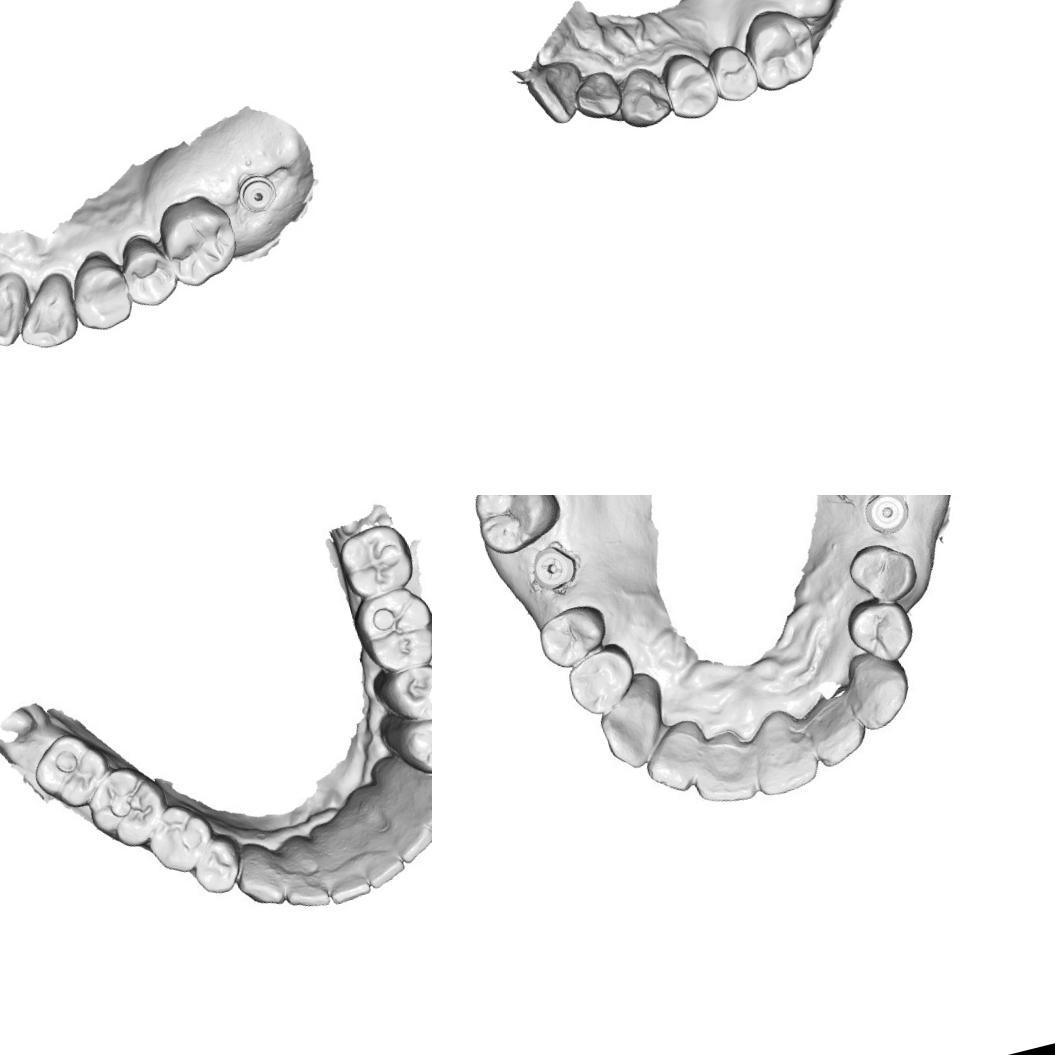canine: (586, 668, 682, 777), (838, 644, 915, 734), (8, 270, 86, 356), (226, 840, 290, 916), (609, 60, 675, 133), (397, 764, 432, 835)
implant: (848, 495, 920, 546), (232, 166, 280, 218)
implant_plus: (526, 538, 582, 596)
incisor: (740, 698, 821, 794), (678, 718, 763, 806), (522, 54, 592, 130), (801, 686, 870, 763), (641, 717, 709, 792), (352, 831, 415, 892), (277, 852, 336, 916), (568, 66, 628, 124), (318, 847, 374, 906), (0, 270, 38, 356), (387, 809, 432, 865)
molar: (347, 581, 432, 681), (738, 1, 826, 96), (26, 728, 116, 817), (82, 762, 169, 849), (334, 518, 422, 603), (466, 495, 569, 559)
premolar: (149, 186, 247, 294), (62, 244, 136, 336), (113, 227, 180, 313), (560, 642, 639, 712), (845, 536, 921, 608), (655, 45, 722, 125), (844, 592, 917, 663), (145, 805, 216, 872), (702, 38, 764, 109), (186, 834, 246, 899), (534, 610, 602, 667), (384, 659, 432, 726), (399, 709, 432, 781)
